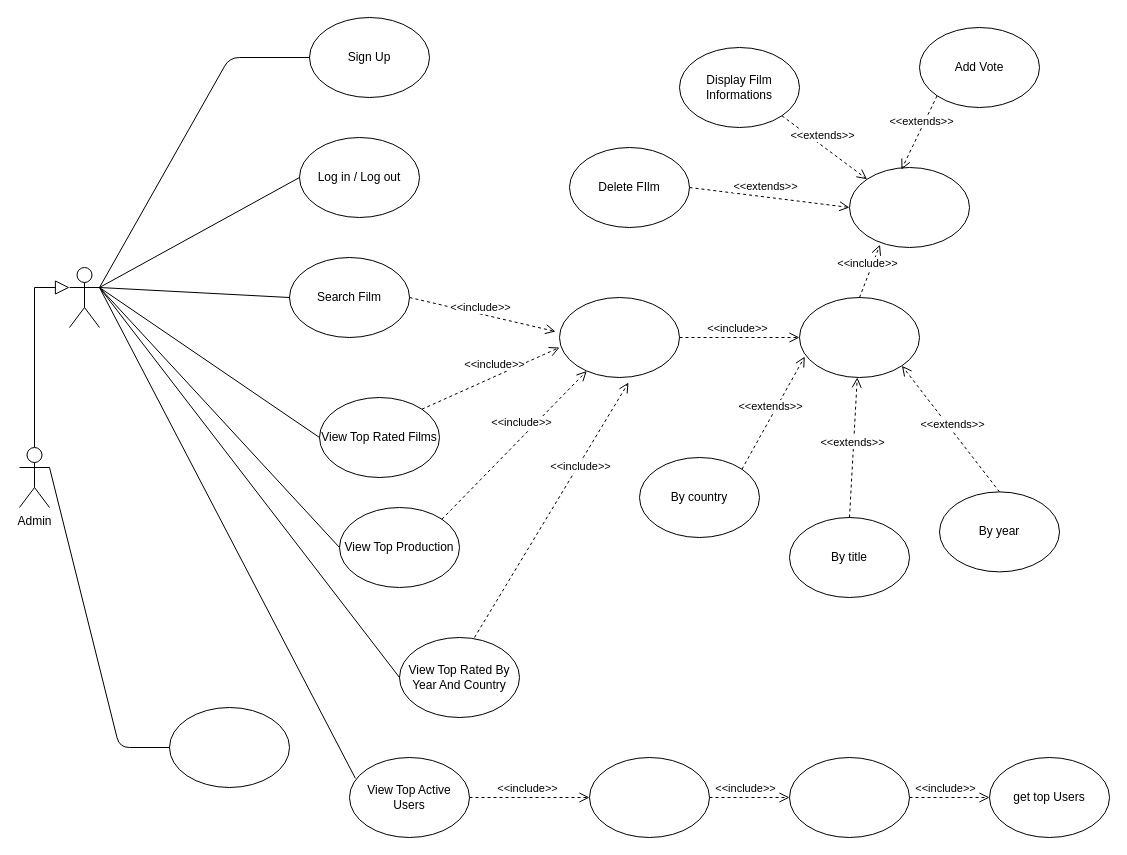
The diagram is 1127 pixels wide and 855 high, and some of its shapes have lost their labels. Here are the shapes that lost their labels. From the top down, the box of each, then its label:
(848, 166, 970, 248): Display Film
(68, 266, 100, 328): User
(558, 296, 680, 378): Browse Films
(798, 296, 920, 378): Find By parametr
(168, 706, 290, 788): Add Film
(588, 756, 710, 838): Browse Users
(788, 756, 910, 838): Find User
